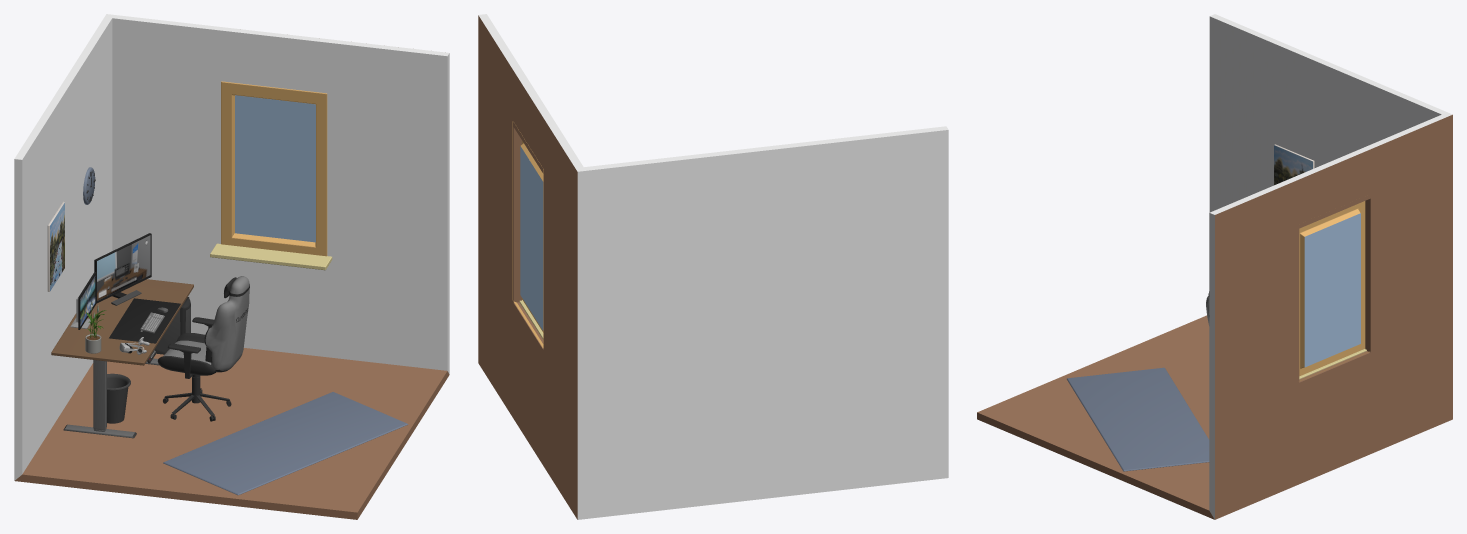
File: room.glb
3 renders of one model, left to right at view 1: azimuth 30°, elevation 25°; view 2: azimuth 150°, elevation 25°; view 3: azimuth 270°, elevation 25°, orthographic. The views are drawn at different scales.
Visible parts, largest first — view 1: Env, Window, Floor, Window Frame, Chair, Table Top, Monitor Right Screen, KeyboardMouse, Painting, Trashcan, PC, Monitor Right (+1 smaller); view 2: Env, Window, Window Frame; view 3: Env, Floor, Window, Window Frame, Painting.
Part boxes in pixels (x1=…): Env: x1=14, y1=14, x2=449, y2=519; Window: x1=235, y1=95, x2=315, y2=242; Floor: x1=163, y1=392, x2=408, y2=495; Window Frame: x1=210, y1=81, x2=332, y2=270; Chair: x1=157, y1=276, x2=249, y2=421; Table Top: x1=51, y1=279, x2=193, y2=430; Monitor Right Screen: x1=97, y1=235, x2=150, y2=300; KeyboardMouse: x1=109, y1=298, x2=180, y2=343; Painting: x1=47, y1=201, x2=64, y2=291; Trashcan: x1=107, y1=373, x2=130, y2=423; PC: x1=154, y1=297, x2=190, y2=354; Monitor Right: x1=94, y1=233, x2=151, y2=305; Env: x1=478, y1=14, x2=948, y2=519; Window: x1=520, y1=146, x2=543, y2=330; Window Frame: x1=512, y1=121, x2=543, y2=348; Env: x1=977, y1=14, x2=1452, y2=519; Floor: x1=1067, y1=367, x2=1209, y2=471; Window: x1=1304, y1=213, x2=1360, y2=367; Window Frame: x1=1299, y1=201, x2=1369, y2=381; Painting: x1=1274, y1=144, x2=1314, y2=185.
Size of what is drawn, in the model's own units: 10.44 by 7.38 by 10.44.
Materials: 38 (3 with a texture image).
